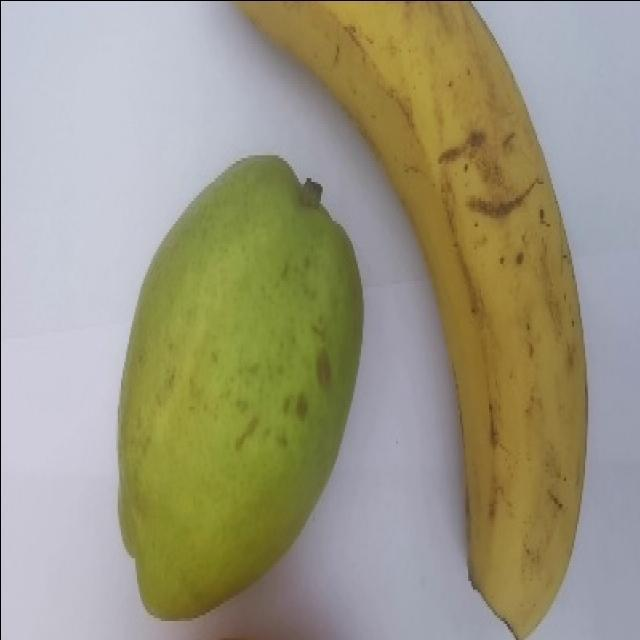Banana: (231, 0, 589, 638)
